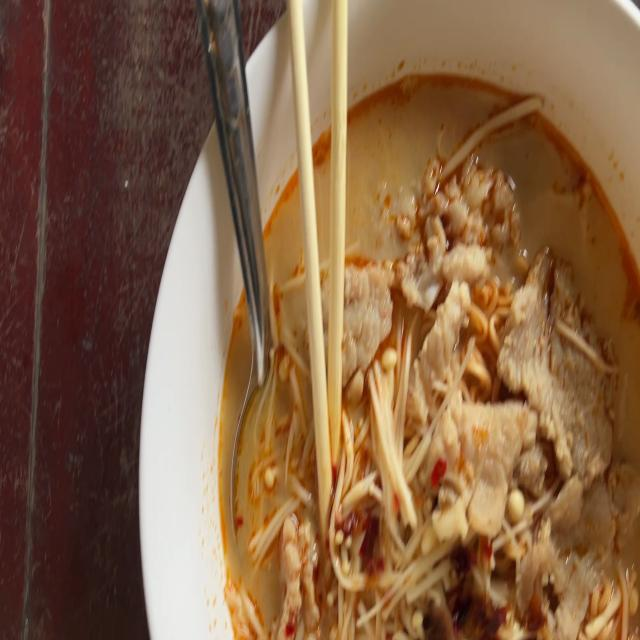noodle: (186, 50, 640, 640)
